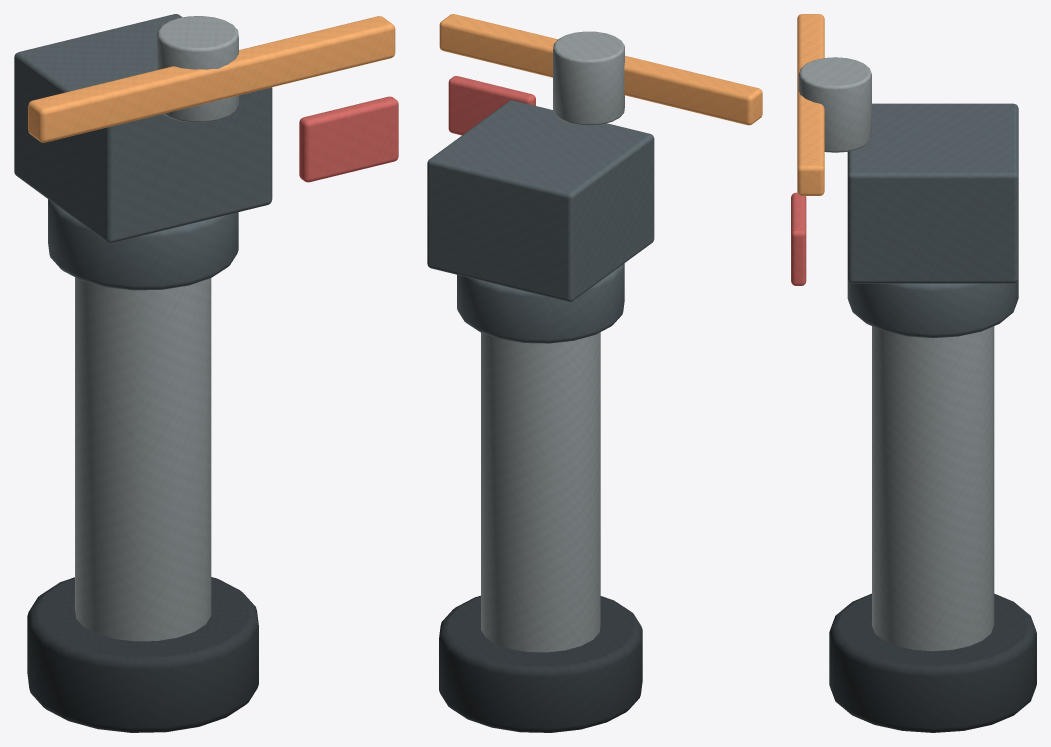
File: EmergencyShutoffValve.glb
3 renders of one model, left to right at view 1: azimuth 30°, elevation 25°; view 2: azimuth 150°, elevation 25°; view 3: azimuth 270°, elevation 25°, orthographic. The views are drawn at different scales.
Visible parts, largest first — view 1: EmergencyShutoffValve_Mesh; view 2: EmergencyShutoffValve_Mesh; view 3: EmergencyShutoffValve_Mesh.
Part boxes in pixels (x1,y1,x2,y2): EmergencyShutoffValve_Mesh: (14,14,398,732); EmergencyShutoffValve_Mesh: (427,14,762,732); EmergencyShutoffValve_Mesh: (791,14,1036,732).
Bounding box in the file's own units: 0.6 × 1.14 × 0.4025.
5 materials, 5 textured.
